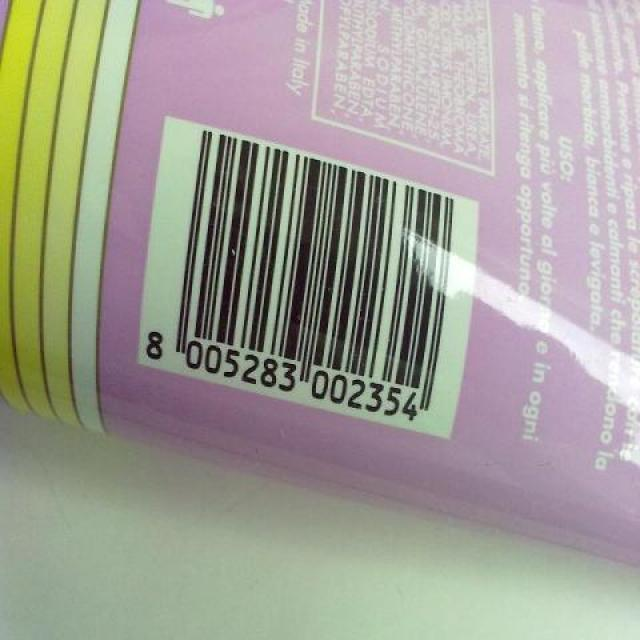Barcode: (138, 116, 481, 443)
